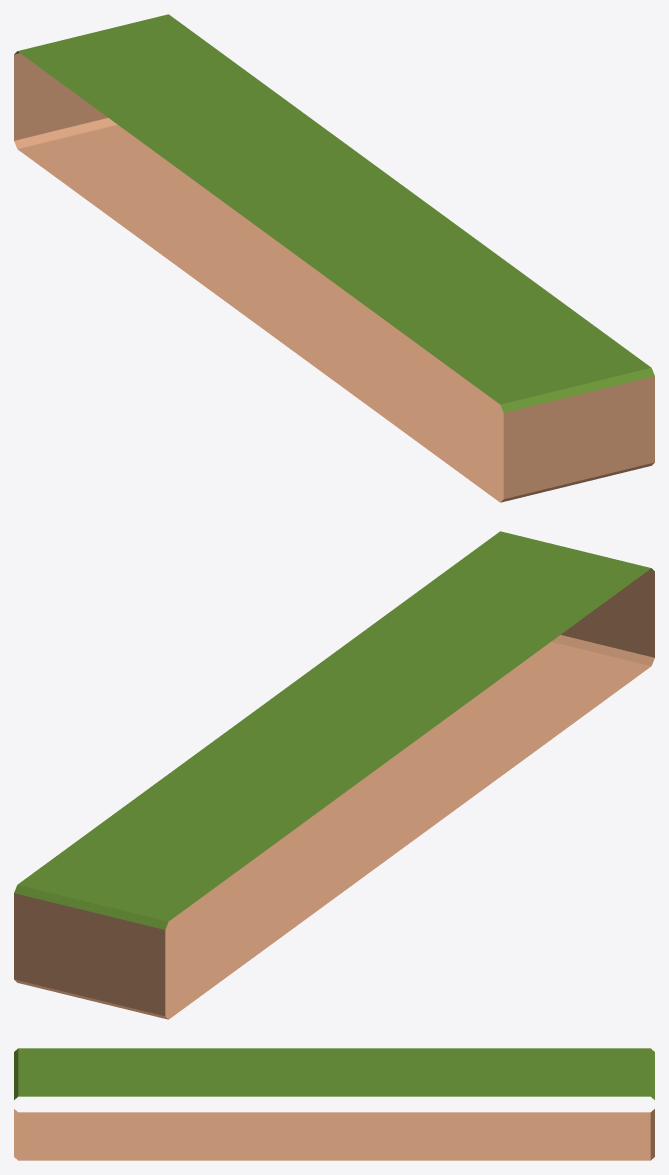
The model's file is chao_meio.fbx.
The picture shows the model from 3 angles, top to bottom: view 1: azimuth 30°, elevation 25°; view 2: azimuth 150°, elevation 25°; view 3: azimuth 270°, elevation 25°; orthographic projection. The views are drawn at different scales.
Visible parts, largest first — view 1: Cube.005; view 2: Cube.005; view 3: Cube.005.
Boxes of the visible parts, <box> form: Cube.005: <box>14,14,654,502</box>; Cube.005: <box>14,531,654,1019</box>; Cube.005: <box>14,1048,654,1160</box>.
Bounding box in the file's own units: 2030 × 1257 × 11379.
Materials: 1 (1 with a texture image).
